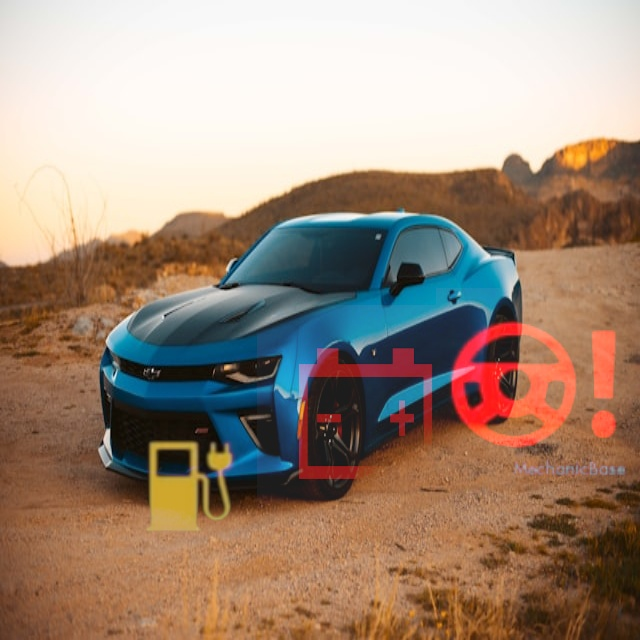symbol: (257, 305, 470, 518), (436, 288, 633, 485), (99, 399, 279, 579)
